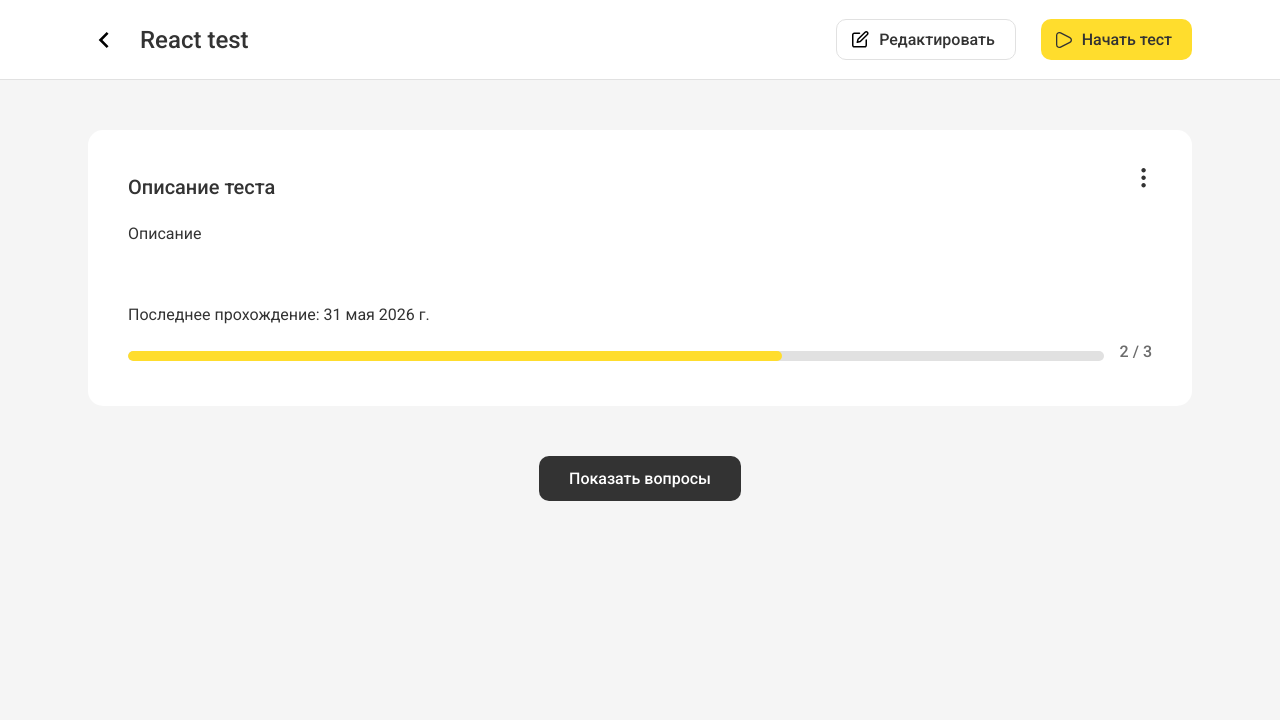
TestPage › questions › loads questions with answers on first click and hides them on second
Expected: the heading "React test" is shown, [140,26,249,54]
Click the button "Показать вопросы" at [640, 478], box [539,456,741,501]
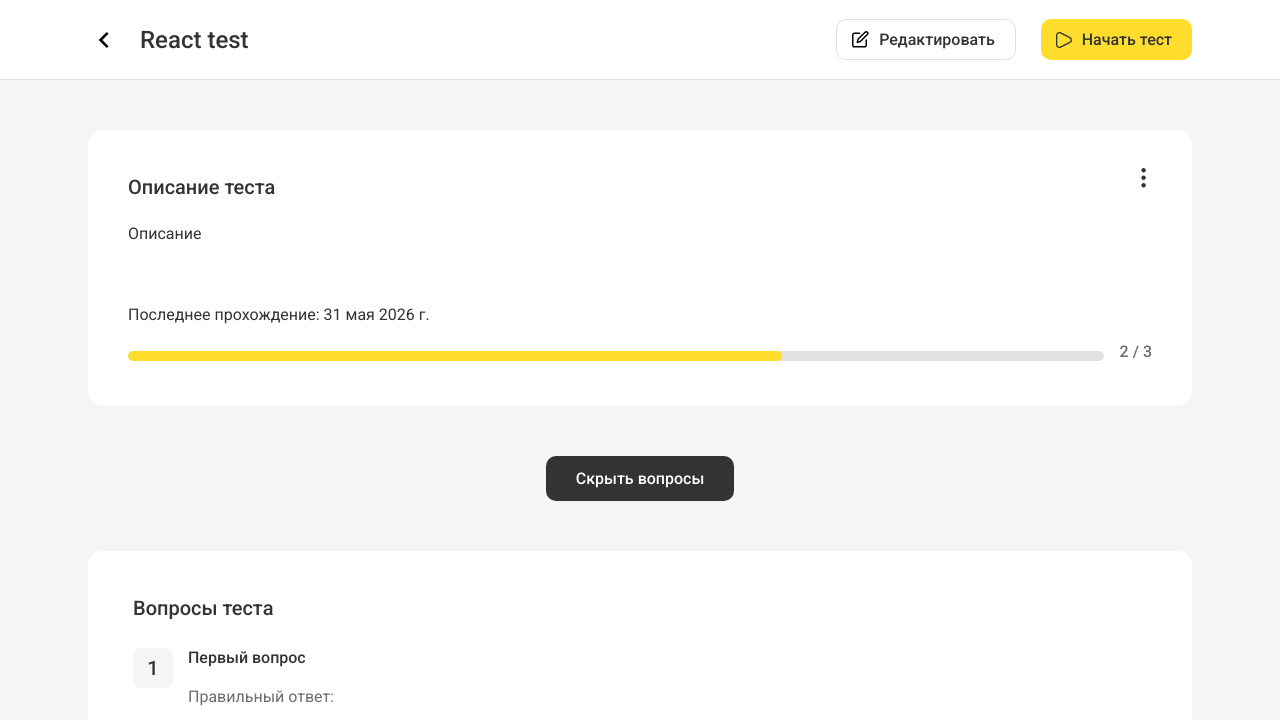
Expected: the text "Первый вопрос" is shown, [188,648,306,667]
Click the button "Скрыть вопросы" at [640, 478], box [546,456,734,501]
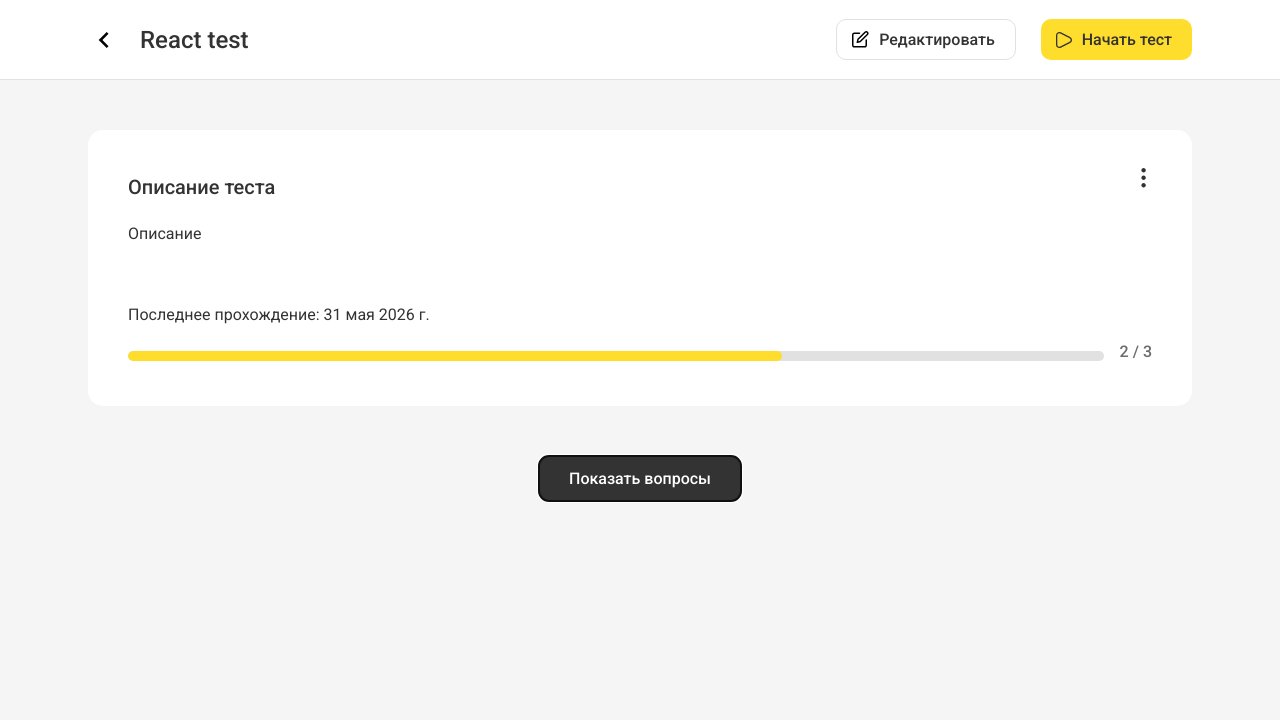
Expected: the text "Первый вопрос" is gone
